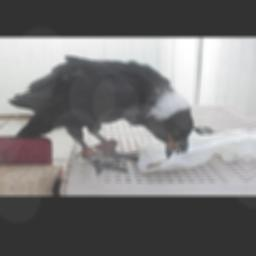Crow: (2, 53, 202, 178)
